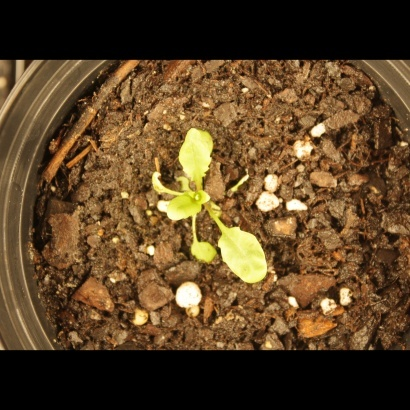leaf: (213, 219, 275, 285), (171, 125, 229, 187), (152, 194, 205, 229), (182, 235, 228, 269), (146, 169, 178, 199)
